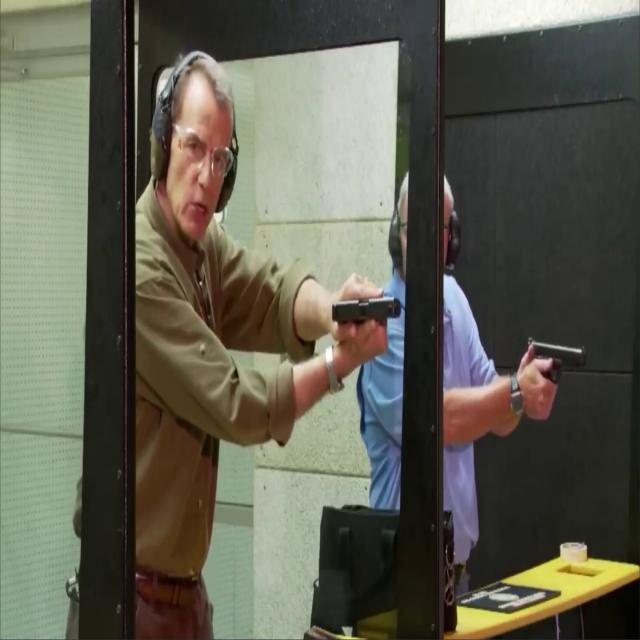Gun: (526, 336, 586, 392), (331, 294, 402, 328)
